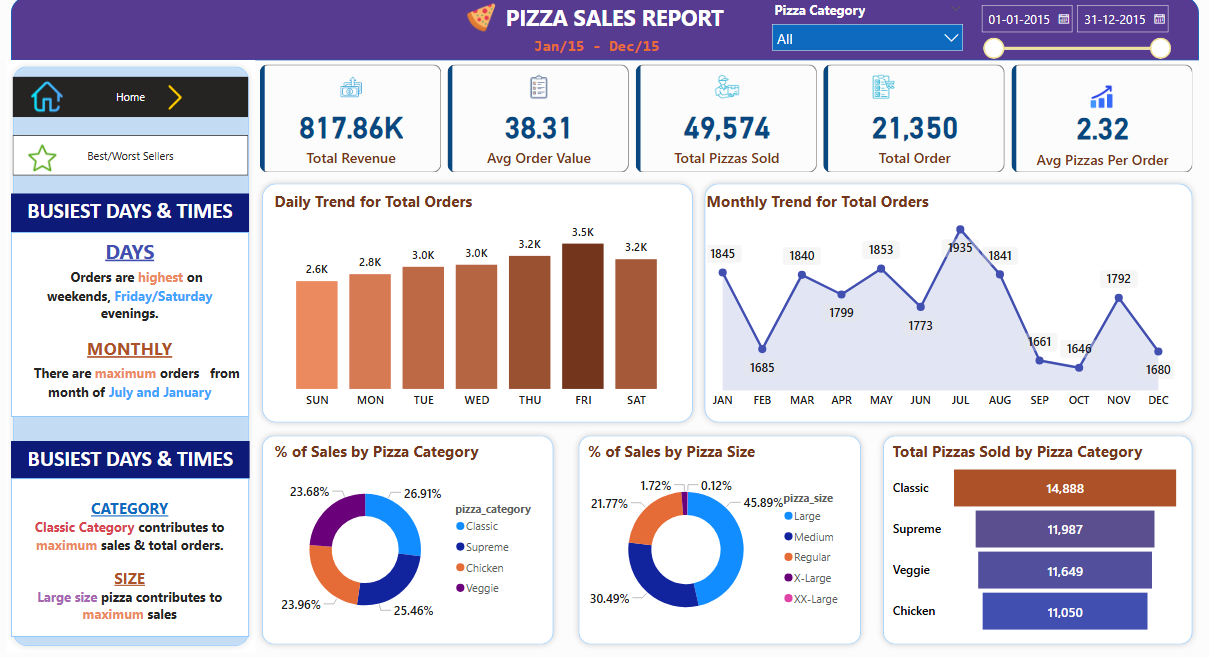

This screenshot's page, from the dashboard's own definition file:
{"tool":"powerbi","page":{"name":"Home","canvas":[1500,820],"ordinal":0},"visuals":[{"type":"shape","box":[17.7,0,1460.4,78.1],"z":0},{"type":"cardVisual","fields":{"Data":["pizzadb pizza_sales.Total Revenue","pizzadb pizza_sales.Avg Order Value","pizzadb pizza_sales.Total Pizzas Sold","pizzadb pizza_sales.Total Order","pizzadb pizza_sales.Avg Pizzas Per Order"]},"box":[319,77.5,1160,143.8],"z":1000},{"type":"textbox","box":[597.5,1.8,326.4,47.9],"z":2000},{"type":"textbox","box":[656.5,44.3,188.1,33.2],"z":3000},{"type":"image","box":[570.4,1.9,53.7,46.3],"z":4000},{"type":"shape","box":[319,221.3,545.9,309.8],"z":5000},{"type":"columnChart","title":"Daily Trend for Total Orders","fields":{"Category":["pizzadb pizza_sales.Order Day"],"Y":["pizzadb pizza_sales.Total Order"]},"box":[337.5,237.9,507.1,276.6],"z":6000},{"type":"shape","box":[863,221.3,615.9,309.8],"z":7000},{"type":"areaChart","title":"Monthly Trend for Total Orders","fields":{"Category":["pizzadb pizza_sales.Order Month"],"Y":["pizzadb pizza_sales.Total Order"]},"box":[868.6,237.9,584.6,276.6],"z":8000},{"type":"shape","box":[319,531.1,374.4,272.9],"z":9000},{"type":"shape","box":[12.9,77.5,306.1,728.4],"z":10000},{"type":"shape","box":[708.1,531.1,363.3,272.9],"z":11000},{"type":"donutChart","title":"%  of Sales by Pizza Category","fields":{"Category":["pizzadb pizza_sales.pizza_category"],"Y":["pizzadb pizza_sales.Total Revenue"]},"box":[337.5,545.9,341.2,241.6],"z":12000},{"type":"donutChart","title":"% of Sales by Pizza Size","fields":{"Category":["pizzadb pizza_sales.pizza_size"],"Y":["pizzadb pizza_sales.Total Revenue"]},"box":[722.9,545.9,330.1,241.6],"z":13000},{"type":"shape","box":[1082.5,531.1,396.5,272.9],"z":14000},{"type":"funnel","title":"Total Pizzas Sold by Pizza Category","fields":{"Category":["pizzadb pizza_sales.pizza_category"],"Y":["pizzadb pizza_sales.Total Pizzas Sold"]},"box":[1097.3,545.9,363.3,241.6],"z":15000},{"type":"textbox","box":[18.9,241.5,292.5,47.2],"z":16000},{"type":"textbox","box":[18.9,288.7,292.5,226.4],"z":17000},{"type":"textbox","box":[18.4,545.9,293.2,46.1],"z":18000},{"type":"textbox","box":[18.9,592.5,292.5,194.3],"z":19000},{"type":"slicer","fields":{"Values":["pizzadb pizza_sales.pizza_category"]},"box":[944.2,0,254.5,77.5],"z":20000},{"type":"slicer","fields":{"Values":["pizzadb pizza_sales.order_date"]},"box":[1198.7,0,254.5,77.5],"z":21000},{"type":"pageNavigator","box":[20.8,98.1,290.6,50.9],"z":22000},{"type":"pageNavigator","box":[20.8,169.8,290.6,50.9],"z":23000},{"type":"image","box":[200,98.1,41.5,50.9],"z":24000},{"type":"image","box":[20.8,175.5,73.6,45.3],"z":25000},{"type":"image","box":[32.1,98.1,62.3,49.1],"z":26000},{"type":"image","box":[1338.8,97.7,40.6,49.8],"z":27000}]}

Visuals, with their boxes in screenshot pixels (x1, y1, x2, y2), scaled from the page's 1500x820 canvas onto the 1209x657 screenshot:
shape: 14,0,1191,63
cardVisual - pizzadb pizza_sales.Total Revenue x pizzadb pizza_sales.Avg Order Value: 257,62,1192,177
textbox: 482,1,745,40
textbox: 529,35,681,62
image: 460,2,503,39
shape: 257,177,697,426
"Daily Trend for Total Orders" columnChart: 272,191,681,412
shape: 696,177,1192,426
"Monthly Trend for Total Orders" areaChart: 700,191,1171,412
shape: 257,426,559,644
shape: 10,62,257,646
shape: 571,426,864,644
"%  of Sales by Pizza Category" donutChart: 272,437,547,631
"% of Sales by Pizza Size" donutChart: 583,437,849,631
shape: 872,426,1192,644
"Total Pizzas Sold by Pizza Category" funnel: 884,437,1177,631
textbox: 15,193,251,231
textbox: 15,231,251,413
textbox: 15,437,251,474
textbox: 15,475,251,630
slicer - pizzadb pizza_sales.pizza_category: 761,0,966,62
slicer - pizzadb pizza_sales.order_date: 966,0,1171,62
pageNavigator: 17,79,251,119
pageNavigator: 17,136,251,177
image: 161,79,195,119
image: 17,141,76,177
image: 26,79,76,118
image: 1079,78,1112,118
